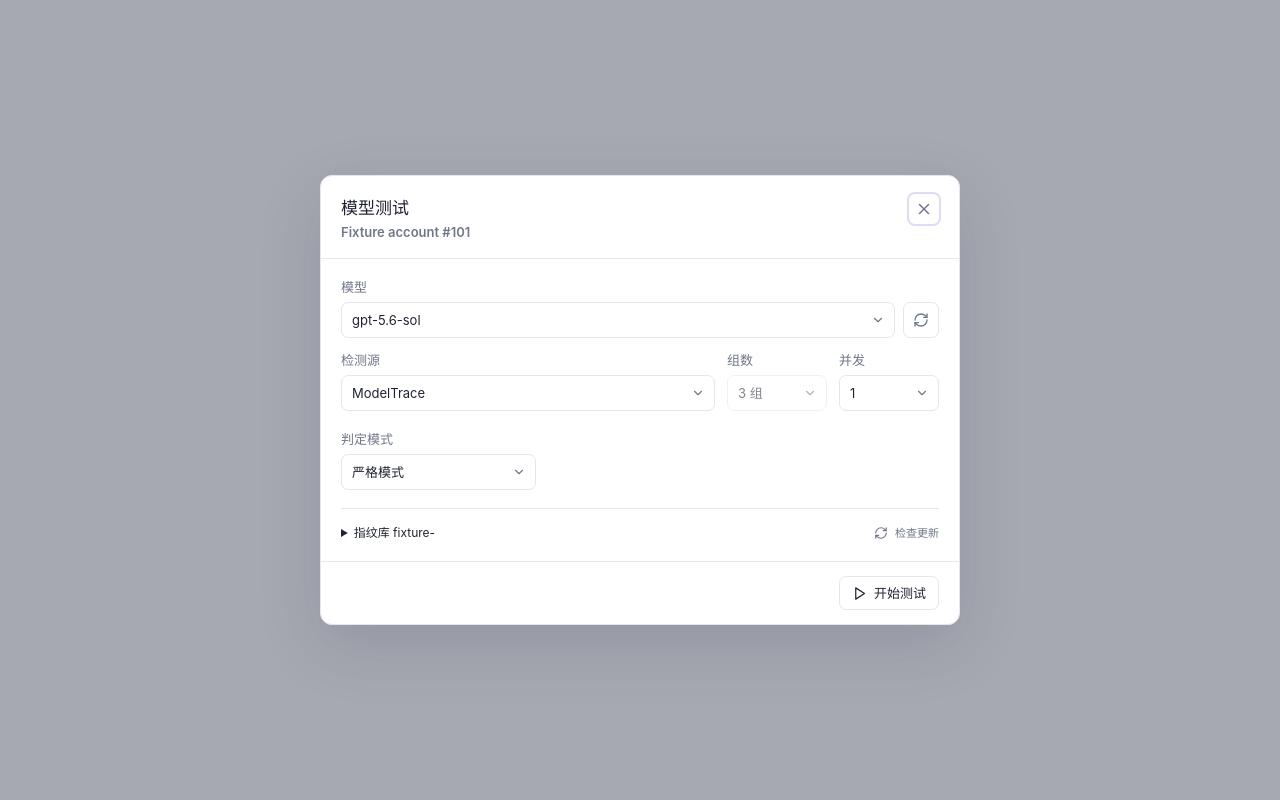
Test: ModelTestDialog candidates › manually refreshes without replacing the selected model after a temporary failure
Select "gpt-6-astra" in the dropdown named "测试模型": (618, 320) [341,302,895,338]
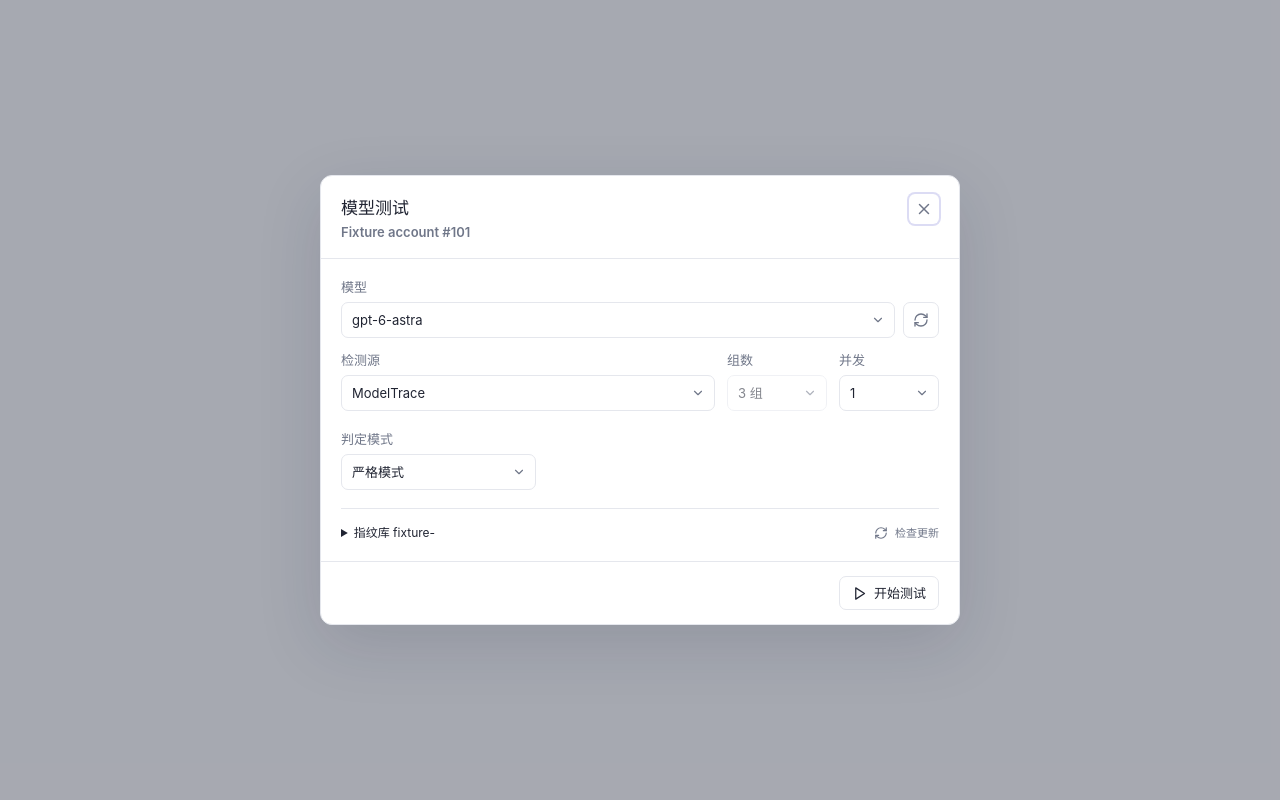
Click the button named "刷新模型列表": (921, 320) [903,302,939,338]
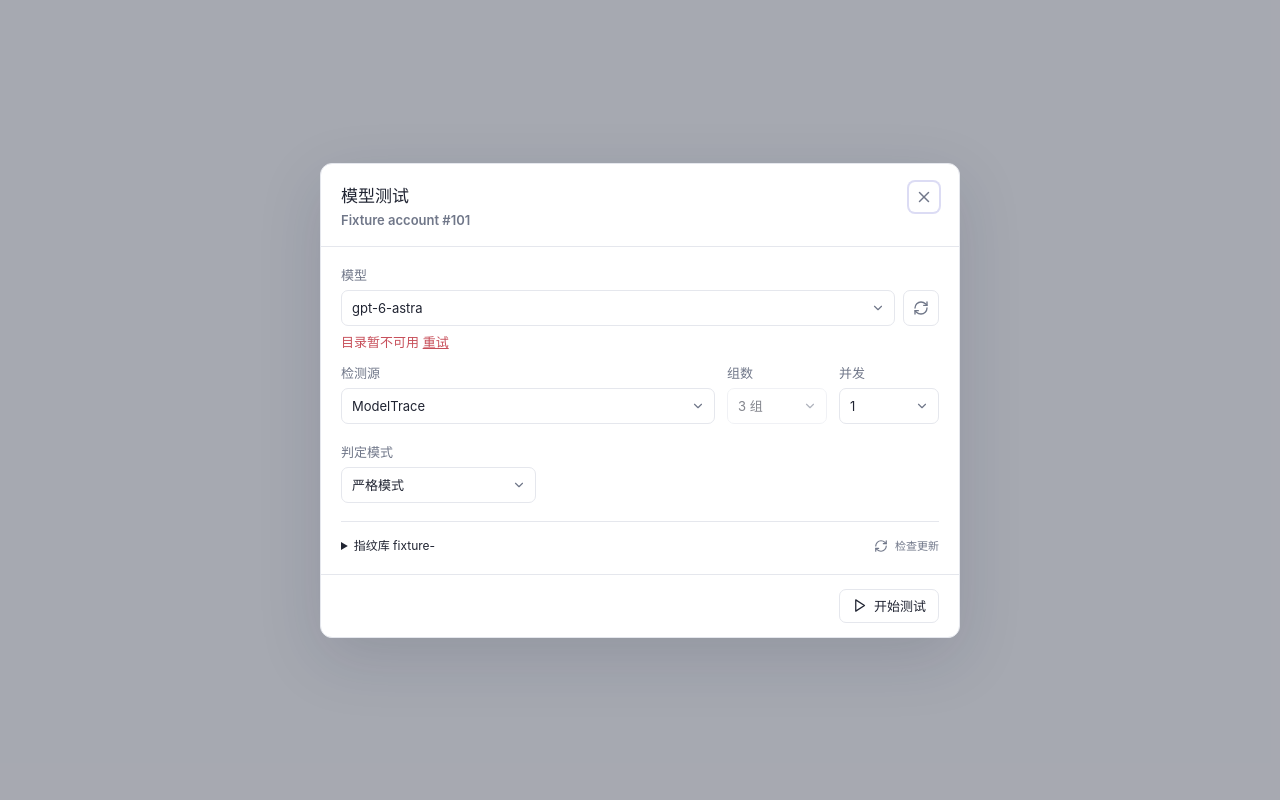
Expected: the button "开始测试" is enabled, [839,588,939,622]
Now the text "目录暂不可用" is shown, box [341,334,419,350]
